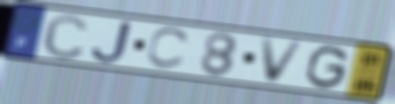8: (199, 31, 240, 79)
C: (40, 13, 91, 61), (144, 27, 194, 71)
G: (302, 45, 351, 91)
J: (88, 19, 136, 65)
V: (259, 36, 308, 85)
